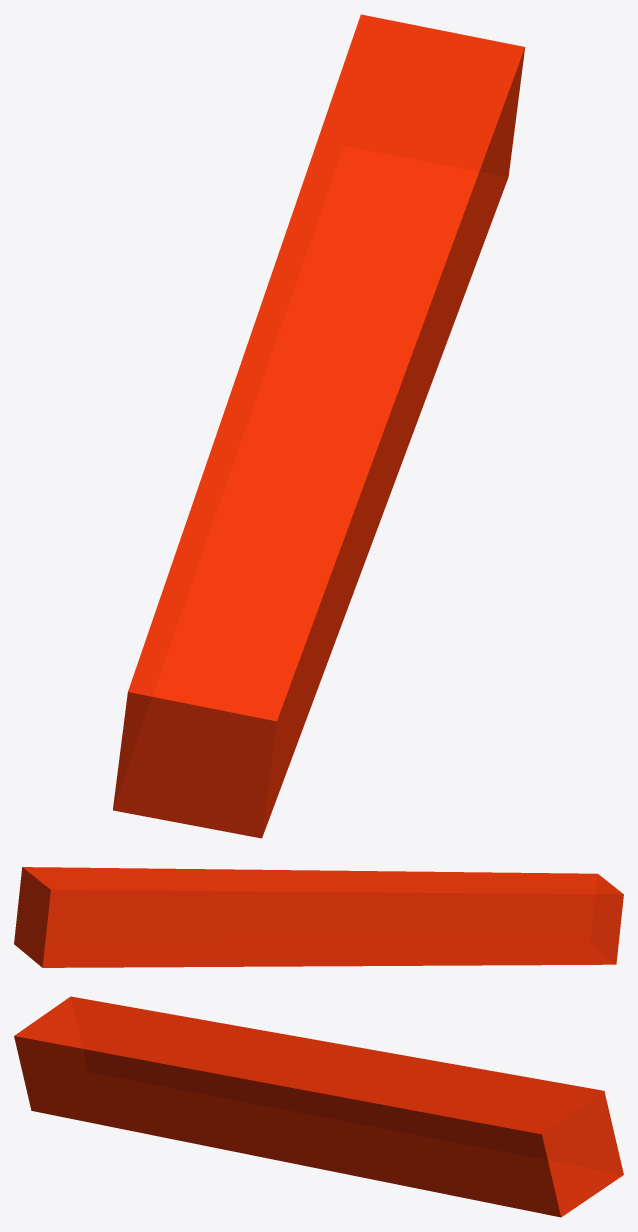
The model's file is Event_421278790_EBrechit_5.fbx.
The picture shows the model from 3 angles, top to bottom: view 1: azimuth 30°, elevation 25°; view 2: azimuth 150°, elevation 25°; view 3: azimuth 270°, elevation 25°; orthographic projection. The views are drawn at different scales.
Visible parts, largest first — view 1: Model; view 2: Model; view 3: Model.
Boxes of the visible parts, x1=… form: Model: x1=113, y1=14, x2=525, y2=838; Model: x1=14, y1=867, x2=623, y2=967; Model: x1=14, y1=996, x2=623, y2=1217.
Bounding box in the file's own units: 0.3541 × 0.136 × 0.3998.
